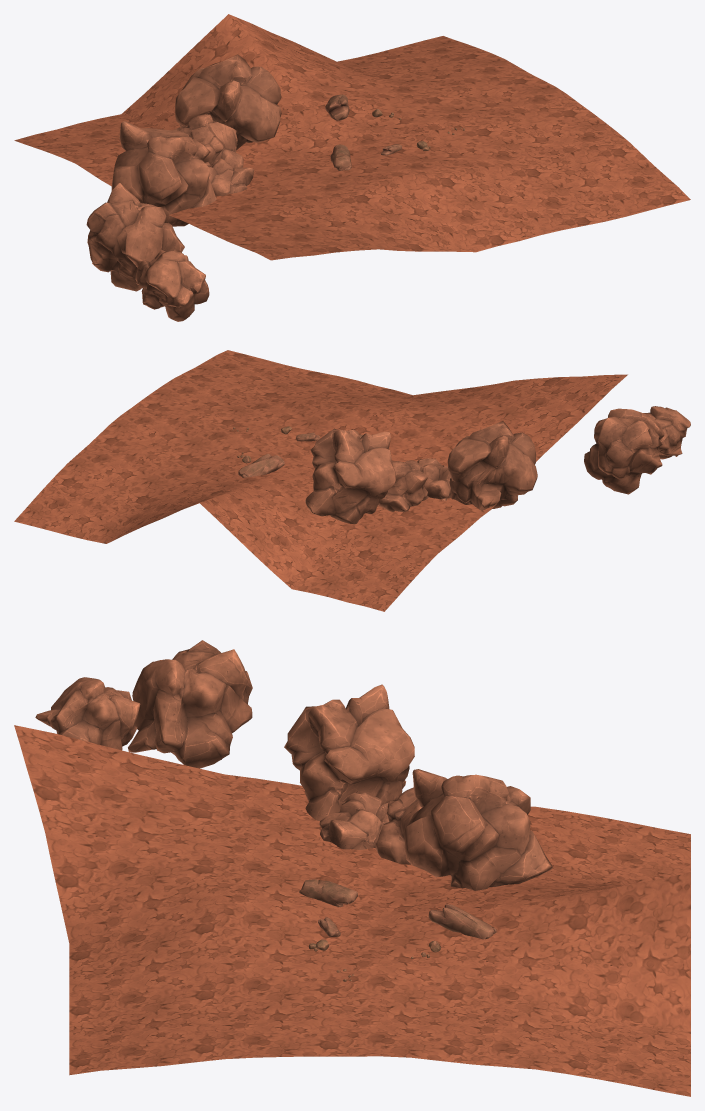
The model's file is LocationTest.fbx.
3 renders of one model, top to bottom at view 1: azimuth 30°, elevation 25°; view 2: azimuth 150°, elevation 25°; view 3: azimuth 270°, elevation 25°, orthographic. The views are drawn at different scales.
Visible parts, largest first — view 1: GroundPlane, Big_rock8, Big_rock5, Big_rock9, Big_rock10, Big_rock6, Big_rock7, Rock_2; view 2: GroundPlane, Big_rock5, Big_rock8, Big_rock9, Big_rock6, Big_rock10, Big_rock7, Rock_2; view 3: GroundPlane, Big_rock5, Big_rock8, Big_rock9, Big_rock10, Big_rock7, Big_rock6, Rock_2, Rock_15.
Part boxes in pixels (x1,y1,x2,y2): GroundPlane: (14,14,690,260); Big_rock8: (111,121,216,226); Big_rock5: (175,54,281,152); Big_rock9: (86,183,184,291); Big_rock10: (135,250,209,321); Big_rock6: (173,114,243,167); Big_rock7: (204,158,253,195); Rock_2: (325,94,349,120); GroundPlane: (14,350,627,611); Big_rock5: (305,428,395,524); Big_rock8: (447,421,537,510); Big_rock9: (584,408,664,494); Big_rock6: (378,460,428,512); Big_rock10: (643,406,690,459); Big_rock7: (417,458,451,500); Rock_2: (238,453,284,477); GroundPlane: (14,725,690,1096); Big_rock5: (404,769,552,890); Big_rock8: (284,684,414,821); Big_rock9: (128,640,252,768); Big_rock10: (35,677,140,750); Big_rock7: (319,792,388,849); Big_rock6: (375,787,421,864); Rock_2: (428,904,496,939); Rock_15: (299,879,357,907).
Bounding box in the file's own units: 145 × 29.84 × 124.
